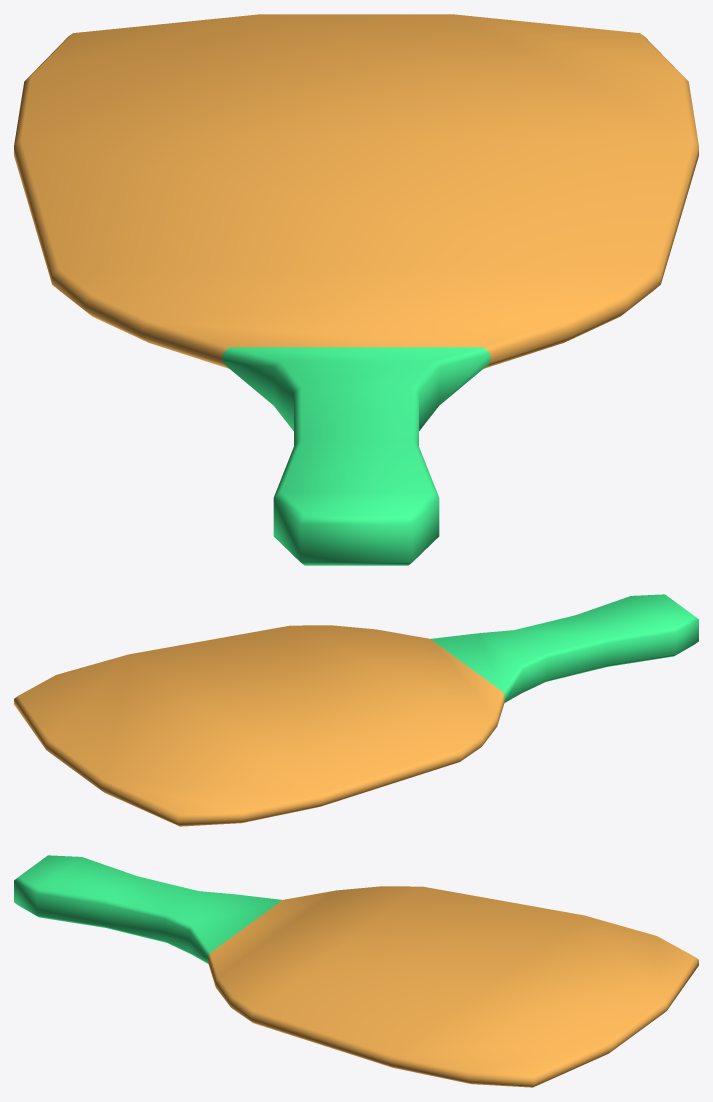
Rendered from Toy121.fbx.
3 renders of one model, top to bottom at view 1: azimuth 30°, elevation 25°; view 2: azimuth 150°, elevation 25°; view 3: azimuth 270°, elevation 25°, orthographic. The views are drawn at different scales.
Visible parts, largest first — view 1: Toy121; view 2: Toy121; view 3: Toy121.
Part boxes in pixels (left/top/right/bottom): Toy121: left=14, top=14, right=698, bottom=565; Toy121: left=14, top=594, right=698, bottom=826; Toy121: left=14, top=855, right=698, bottom=1087.
Bounding box in the file's own units: 0.1681 × 0.0105 × 0.2263.
